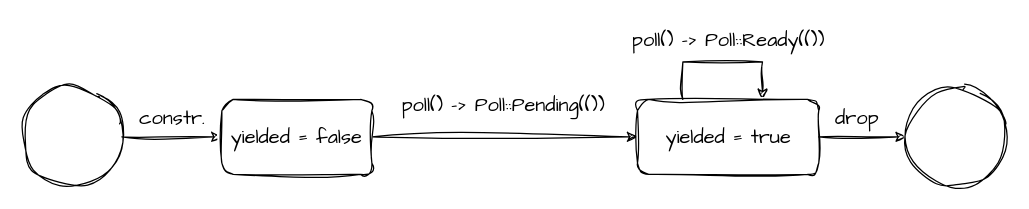
Some shapes in this 1029 by 209 pixel diagram are drawn without their labels. Each missing label, with the centre of its shape:
Final: the point at 955,136
Inital: the point at 71,136
